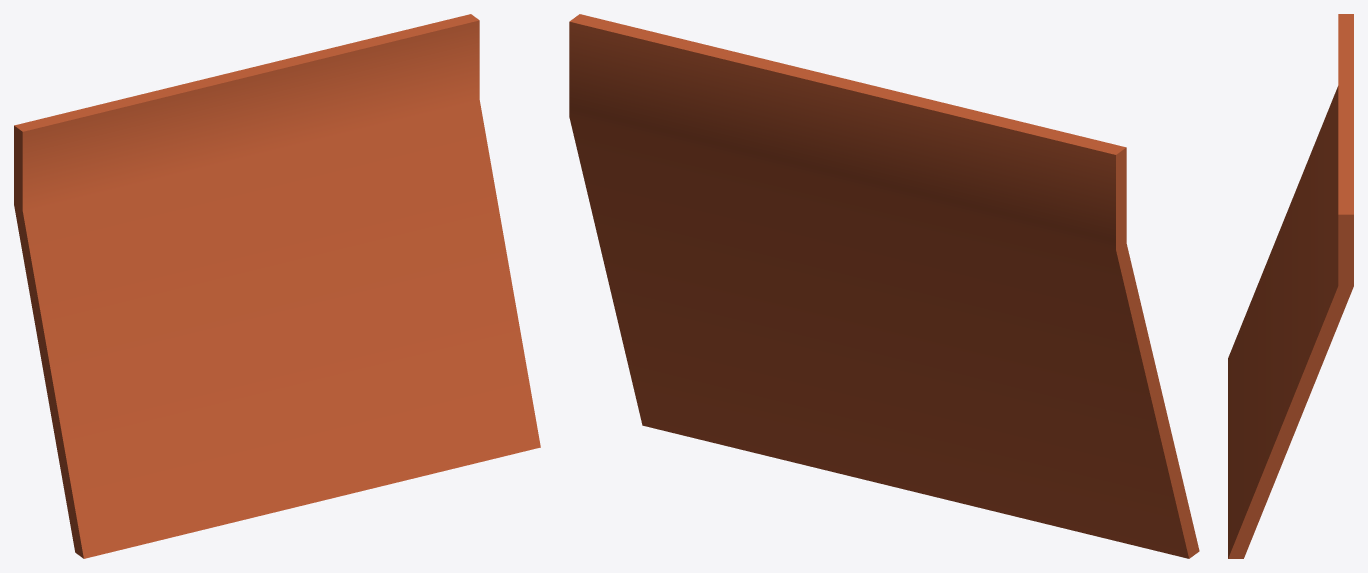
The model's file is RedStickyNote.fbx.
3 views of the same model, side by side, from view 1: azimuth 30°, elevation 25°; view 2: azimuth 150°, elevation 25°; view 3: azimuth 270°, elevation 25° (orthographic). The views are drawn at different scales.
Visible parts, largest first — view 1: sticky_note_red; view 2: sticky_note_red; view 3: sticky_note_red.
Boxes of the visible parts, left/top/right/bottom form: sticky_note_red: left=14, top=14, right=540, bottom=558; sticky_note_red: left=569, top=14, right=1199, bottom=558; sticky_note_red: left=1228, top=14, right=1353, bottom=558.
Size of the model in its own units: 0.4139 by 0.3309 by 0.1096.
